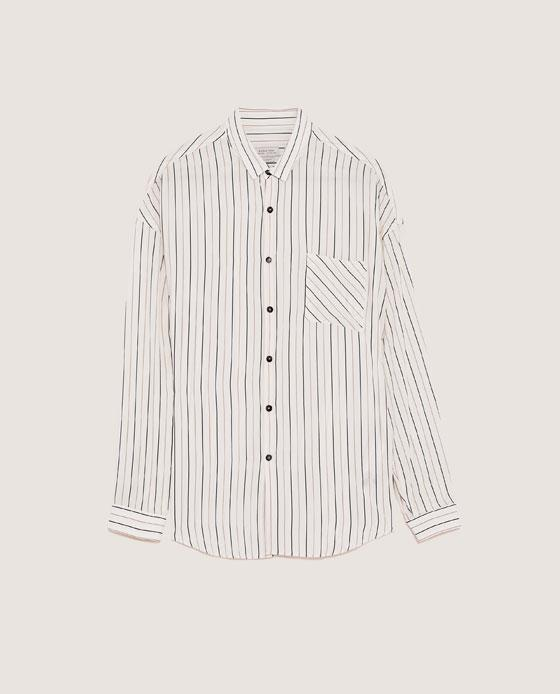teeshirt: (98, 103, 468, 575)
